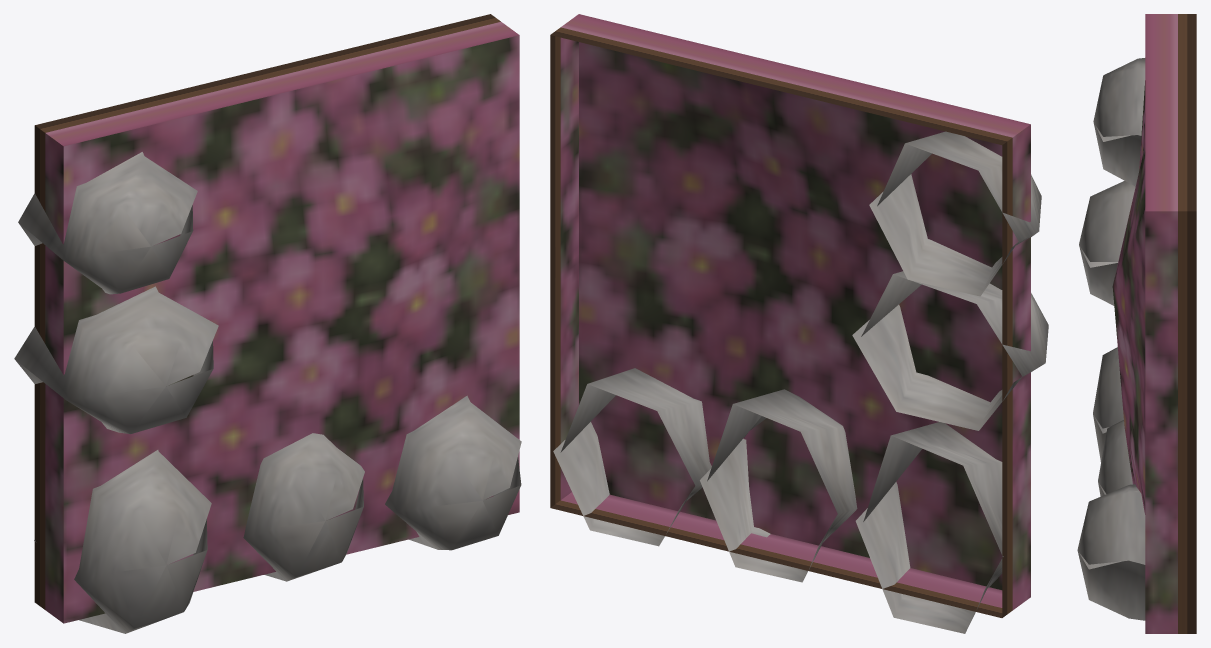
Rendered from keep-bed-palepink-stones-nw.obj.
3 renders of one model, left to right at view 1: azimuth 30°, elevation 25°; view 2: azimuth 150°, elevation 25°; view 3: azimuth 270°, elevation 25°, orthographic. The views are drawn at different scales.
Parts seen in each view (by area): view 1: bed-palepink-stones-nw; view 2: bed-palepink-stones-nw; view 3: bed-palepink-stones-nw.
Boxes of the visible parts, bbox=[...] form: bed-palepink-stones-nw: bbox=[14, 14, 521, 633]; bed-palepink-stones-nw: bbox=[550, 14, 1048, 633]; bed-palepink-stones-nw: bbox=[1077, 14, 1196, 633].
Bounding box in the file's own units: 1.05 × 1.05 × 0.2552.
1 material, 1 textured.
